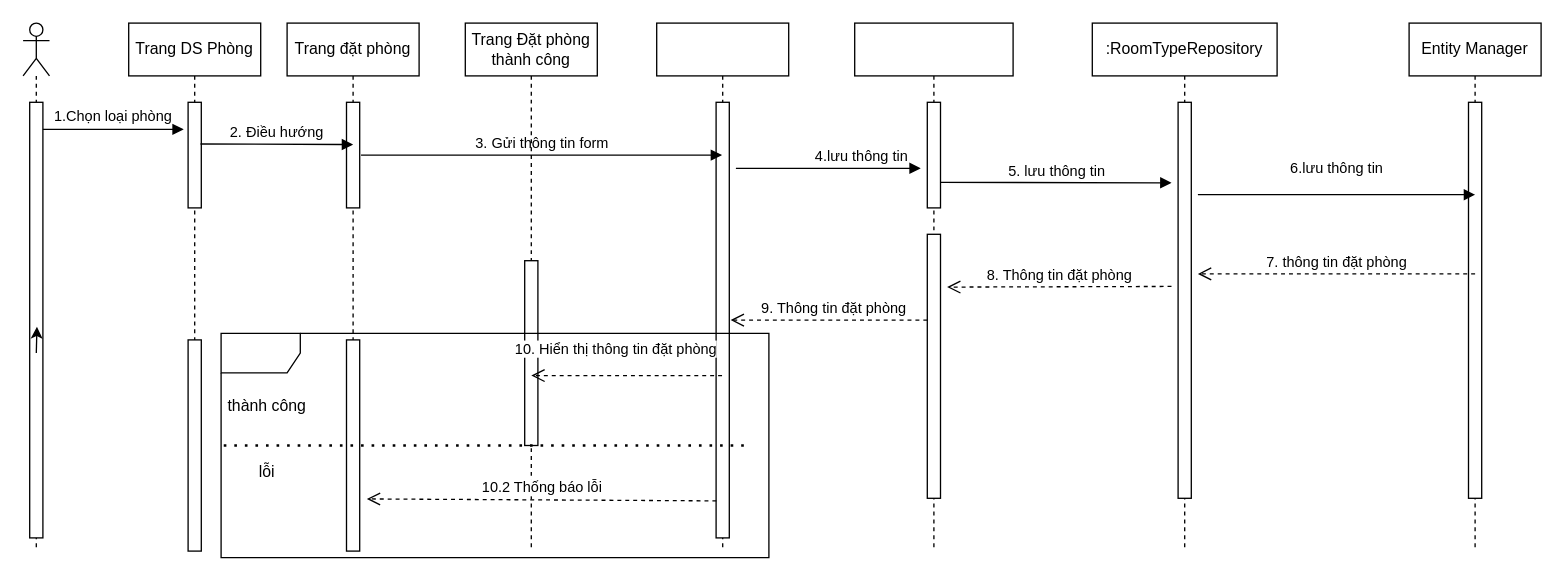
The diagram is 1564 pixels wide and 581 high, and some of its shapes have lost their labels. The shapes that lost their labels are listed below. From the top down, each one's box as (x1, y1, x2, y2) in pixels, then its label:
(655, 22, 789, 551): :BookingController
(853, 22, 1013, 551): :RoomTypeService
(220, 332, 769, 558): Alt 1
